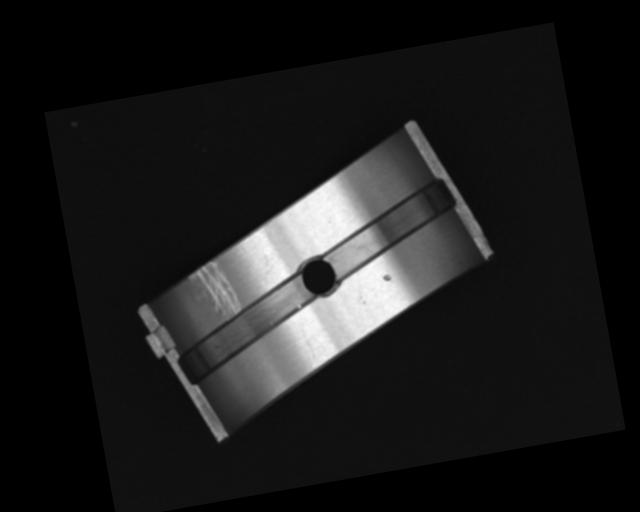bruise: (382, 272, 393, 283)
gap: (170, 274, 326, 386), (315, 178, 462, 277)
hole: (298, 254, 339, 299)
nick: (301, 328, 317, 365)
scratch: (187, 257, 243, 324)
